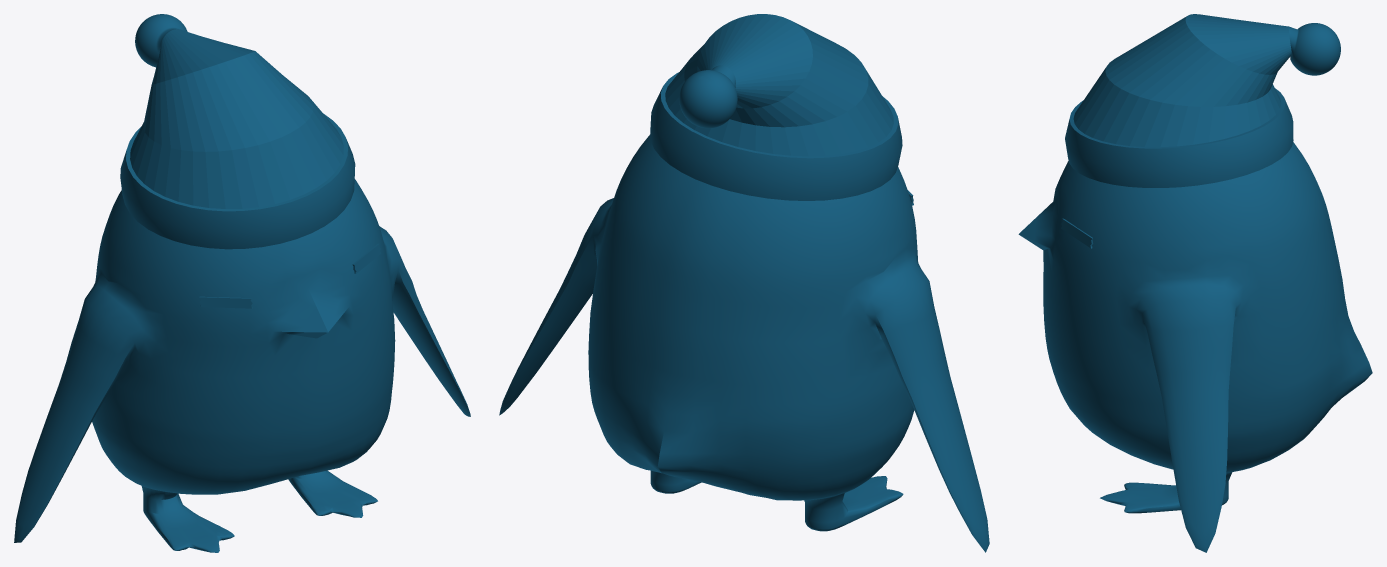
File: penguin_blue_idle_14f.fbx
3 views of the same model, side by side, from view 1: azimuth 30°, elevation 25°; view 2: azimuth 150°, elevation 25°; view 3: azimuth 270°, elevation 25° (orthographic). The views are drawn at different scales.
Parts seen in each view (by area): view 1: ppp_14, bousi, ai; view 2: ppp_14, bousi; view 3: ppp_14, bousi.
Part boxes in pixels (left/top/right/bottom): ppp_14: left=14, top=179, right=470, bottom=552; bousi: left=120, top=14, right=355, bottom=249; ai: left=199, top=243, right=380, bottom=308; ppp_14: left=499, top=134, right=989, bottom=552; bousi: left=650, top=14, right=902, bottom=200; ppp_14: left=1018, top=142, right=1372, bottom=552; bousi: left=1065, top=14, right=1340, bottom=187.
Bounding box in the file's own units: 21.16 × 20.1 × 14.74.
Materials: 1 (1 with a texture image).
